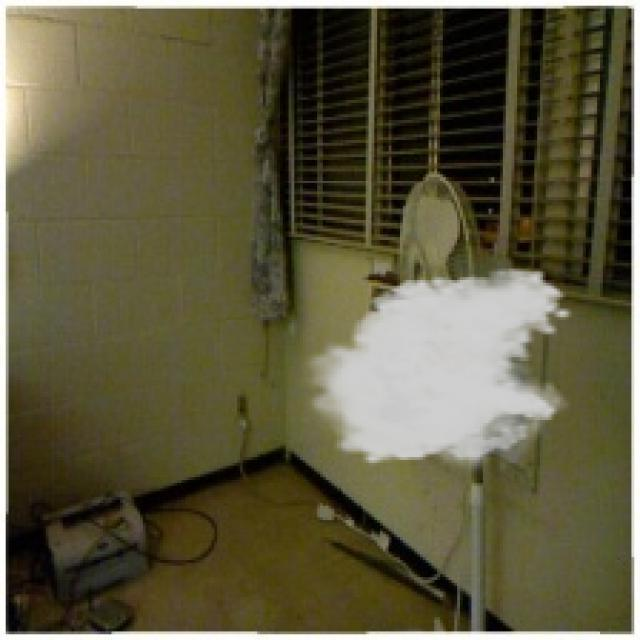Smoke: (297, 266, 574, 477)
